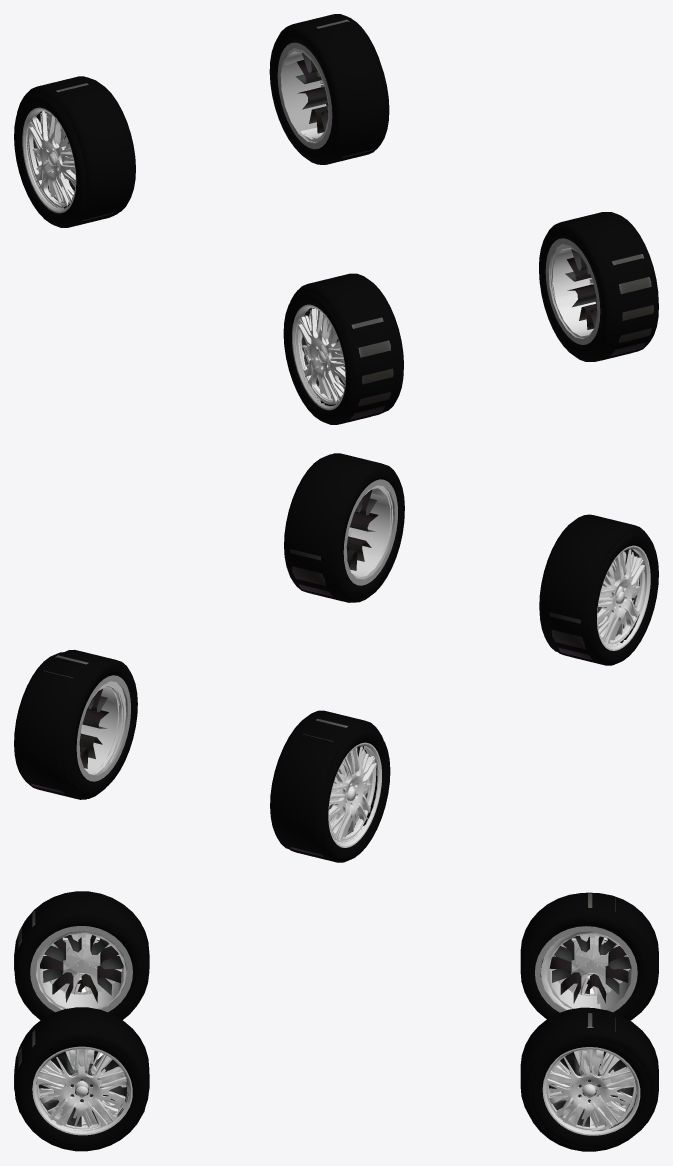
Rendered from Ford_mustang_wheels.fbx.
The picture shows the model from 3 angles, top to bottom: view 1: azimuth 30°, elevation 25°; view 2: azimuth 150°, elevation 25°; view 3: azimuth 270°, elevation 25°; orthographic projection. The views are drawn at different scales.
Visible parts, largest first — view 1: pasted__WheelStarRB, pasted__WheelStarLB, pasted__WheelFutureRB, pasted__WheelFutureRF, pasted__WheelStarLF, pasted__WheelSimple_LF, pasted__WheelFlowerRF, pasted__WheelFlowerLF, pasted__WheelSimple_RF, Ford_mustang2012_wheel.F.L, pasted__WheelStarRF, Ford_mustang2012_wheel.F.R (+6 smaller); view 2: pasted__WheelMagicLB, pasted__WheelMagicRB, pasted__WheelFutureRF, pasted__WheelFiveLF, pasted__WheelFutureRB, pasted__WheelFiveRF, pasted__WheelStarRB, pasted__WheelStarLF, pasted__WheelFlowerLF, pasted__WheelFlowerRF, pasted__WheelStarLB, Ford_mustang2012_wheel.F.L (+8 smaller); view 3: pasted__WheelMagicLB, pasted__WheelStarLB, pasted__WheelMagicLF, pasted__WheelFutureLB, pasted__WheelStarRF, pasted__WheelFutureLF, pasted__WheelStarRB, Ford_mustang2012_wheel.F.R, Ford_mustang2012_wheel.B.R, pasted__WheelMagicRB, pasted__WheelFlowerLF, pasted__WheelFlowerRF (+16 smaller).
Boxes of the visible parts, left/top/right/bottom form: pasted__WheelStarRB: left=271, top=19, right=386, bottom=163; pasted__WheelStarLB: left=27, top=80, right=135, bottom=217; pasted__WheelFutureRB: left=14, top=93, right=120, bottom=227; pasted__WheelFutureRF: left=283, top=291, right=389, bottom=424; pasted__WheelStarLF: left=539, top=222, right=646, bottom=356; pasted__WheelSimple_LF: left=551, top=245, right=655, bottom=358; pasted__WheelFlowerRF: left=550, top=212, right=649, bottom=338; pasted__WheelFlowerLF: left=290, top=273, right=390, bottom=406; pasted__WheelSimple_RF: left=299, top=309, right=402, bottom=415; Ford_mustang2012_wheel.F.L: left=565, top=249, right=653, bottom=360; pasted__WheelStarRF: left=298, top=273, right=403, bottom=404; Ford_mustang2012_wheel.F.R: left=301, top=307, right=393, bottom=424; pasted__WheelMagicLB: left=14, top=652, right=118, bottom=793; pasted__WheelMagicRB: left=270, top=722, right=377, bottom=855; pasted__WheelFutureRF: left=547, top=533, right=658, bottom=665; pasted__WheelFiveLF: left=288, top=477, right=390, bottom=594; pasted__WheelFutureRB: left=286, top=729, right=390, bottom=862; pasted__WheelFiveRF: left=539, top=530, right=644, bottom=646; pasted__WheelStarRB: left=55, top=649, right=137, bottom=793; pasted__WheelStarLF: left=333, top=463, right=404, bottom=597; pasted__WheelFlowerLF: left=561, top=515, right=647, bottom=644; pasted__WheelFlowerRF: left=308, top=453, right=393, bottom=579; pasted__WheelStarLB: left=296, top=710, right=383, bottom=842; Ford_mustang2012_wheel.F.L: left=290, top=490, right=378, bottom=596; pasted__WheelMagicLB: left=531, top=1011, right=658, bottom=1146; pasted__WheelStarLB: left=520, top=893, right=648, bottom=1018; pasted__WheelMagicLF: left=19, top=1029, right=148, bottom=1146; pasted__WheelFutureLB: left=523, top=1040, right=649, bottom=1151; pasted__WheelStarRF: left=15, top=911, right=145, bottom=1017; pasted__WheelFutureLF: left=17, top=1039, right=142, bottom=1151; pasted__WheelStarRB: left=520, top=1007, right=636, bottom=1131; Ford_mustang2012_wheel.F.R: left=14, top=911, right=149, bottom=1002; Ford_mustang2012_wheel.B.R: left=549, top=893, right=631, bottom=1003; pasted__WheelMagicRB: left=547, top=893, right=658, bottom=1020; pasted__WheelFlowerLF: left=26, top=891, right=120, bottom=1009; pasted__WheelFlowerRF: left=26, top=1008, right=126, bottom=1130.
Bounding box in the file's own units: 179 × 71.82 × 340.
20 materials, 1 textured.
